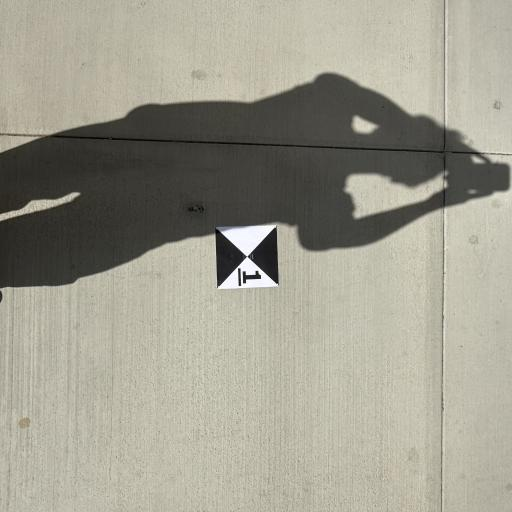target1: (213, 218, 281, 296)
